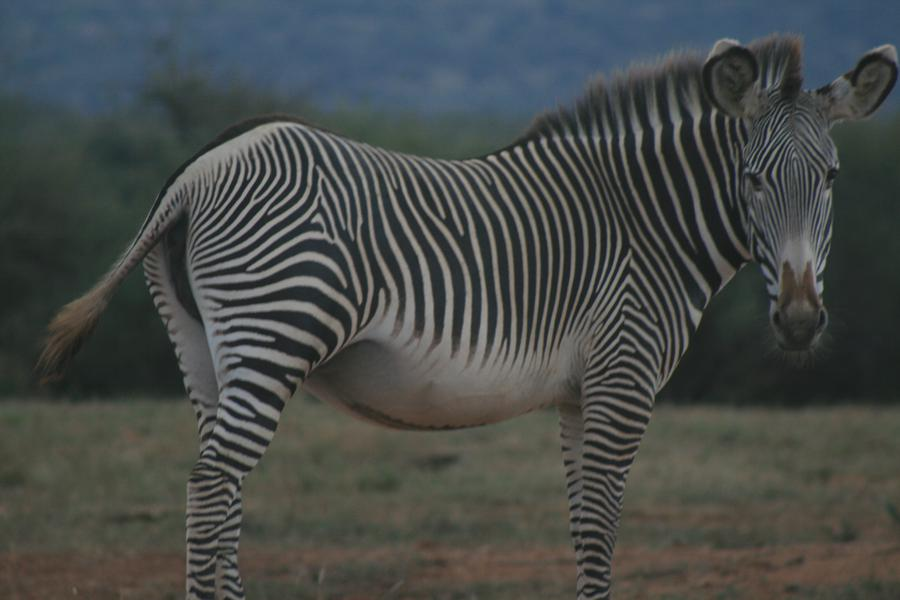zebra_grevys: (166, 109, 666, 397)
